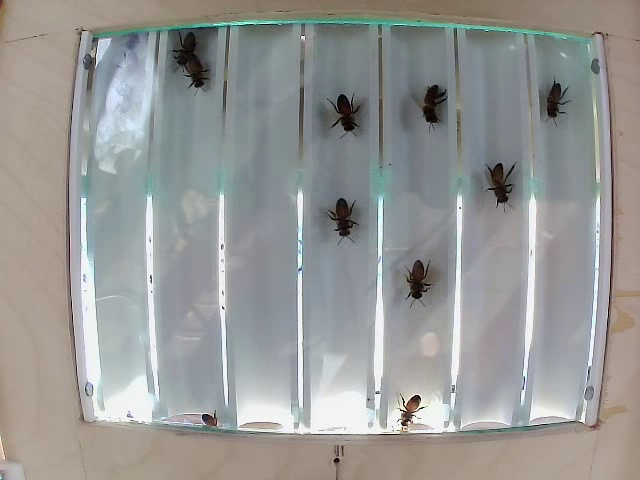bee: (395, 251, 435, 310), (539, 77, 574, 136), (184, 55, 220, 106), (329, 195, 368, 238), (482, 156, 514, 206), (415, 92, 451, 136), (339, 102, 372, 148), (170, 37, 204, 70)
